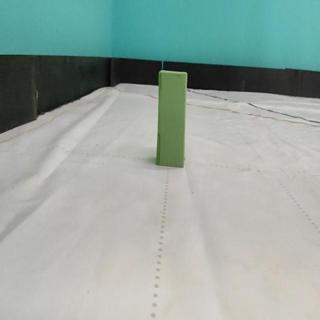greenbox: (155, 68, 188, 170)
